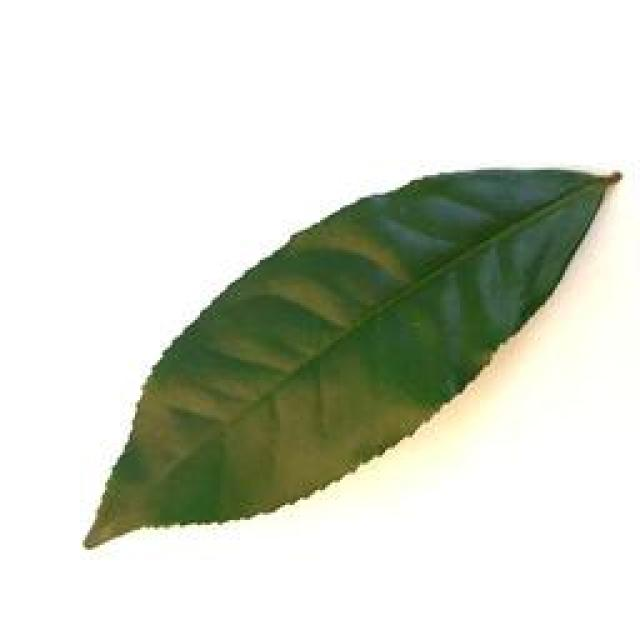Healthy: (66, 154, 628, 556)
